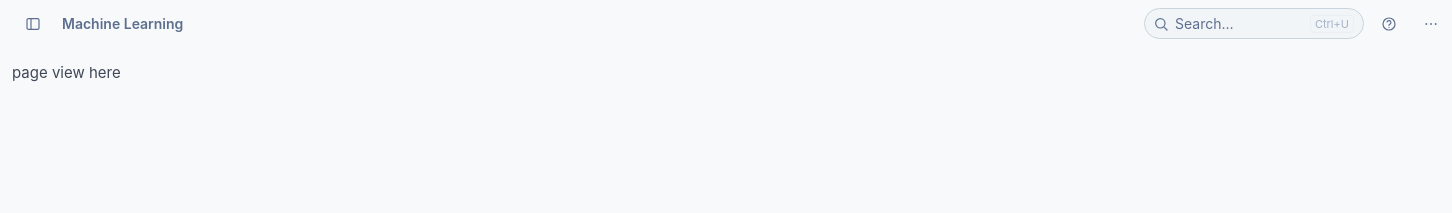
Test: 'Export as Markdown' is a button that fetches the page and downloads it
Click the button named "Page menu" at (1431, 24), box [1414, 10, 1448, 38]
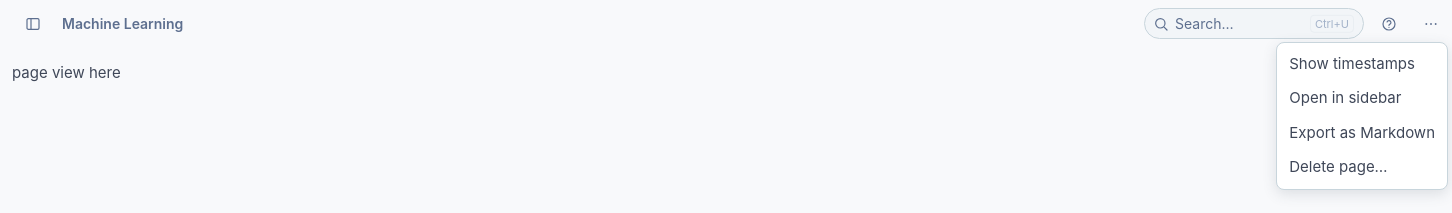
Click the menu item "Export as Markdown" at (1362, 133), box [1277, 116, 1447, 150]
Wait 60000 ms
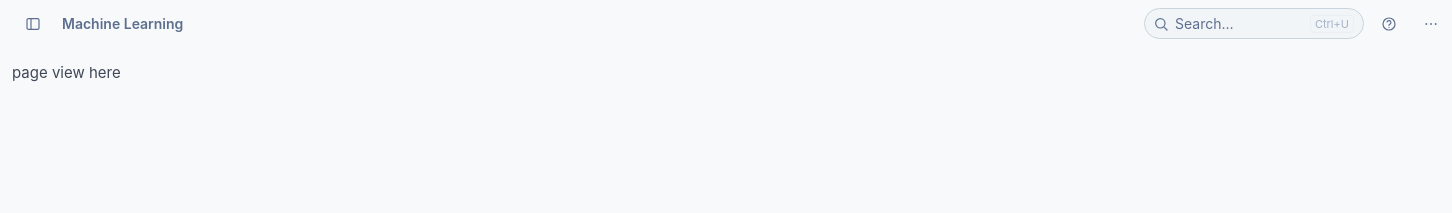
Check: the menu is gone
